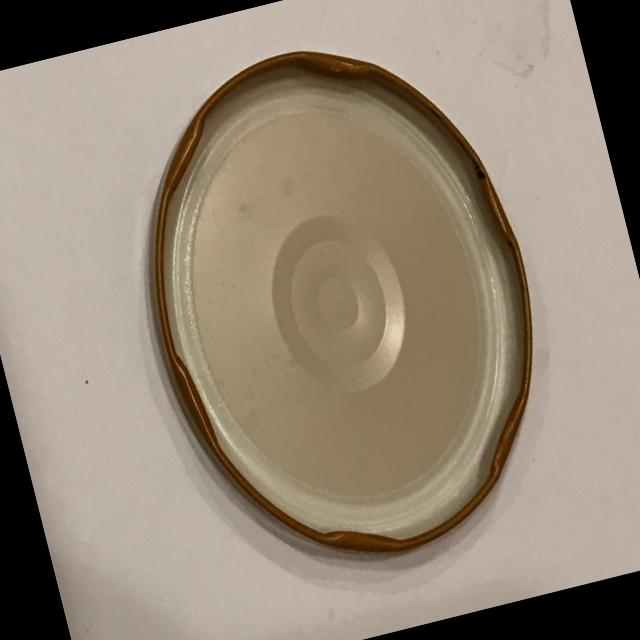Metal: (75, 0, 601, 620)
